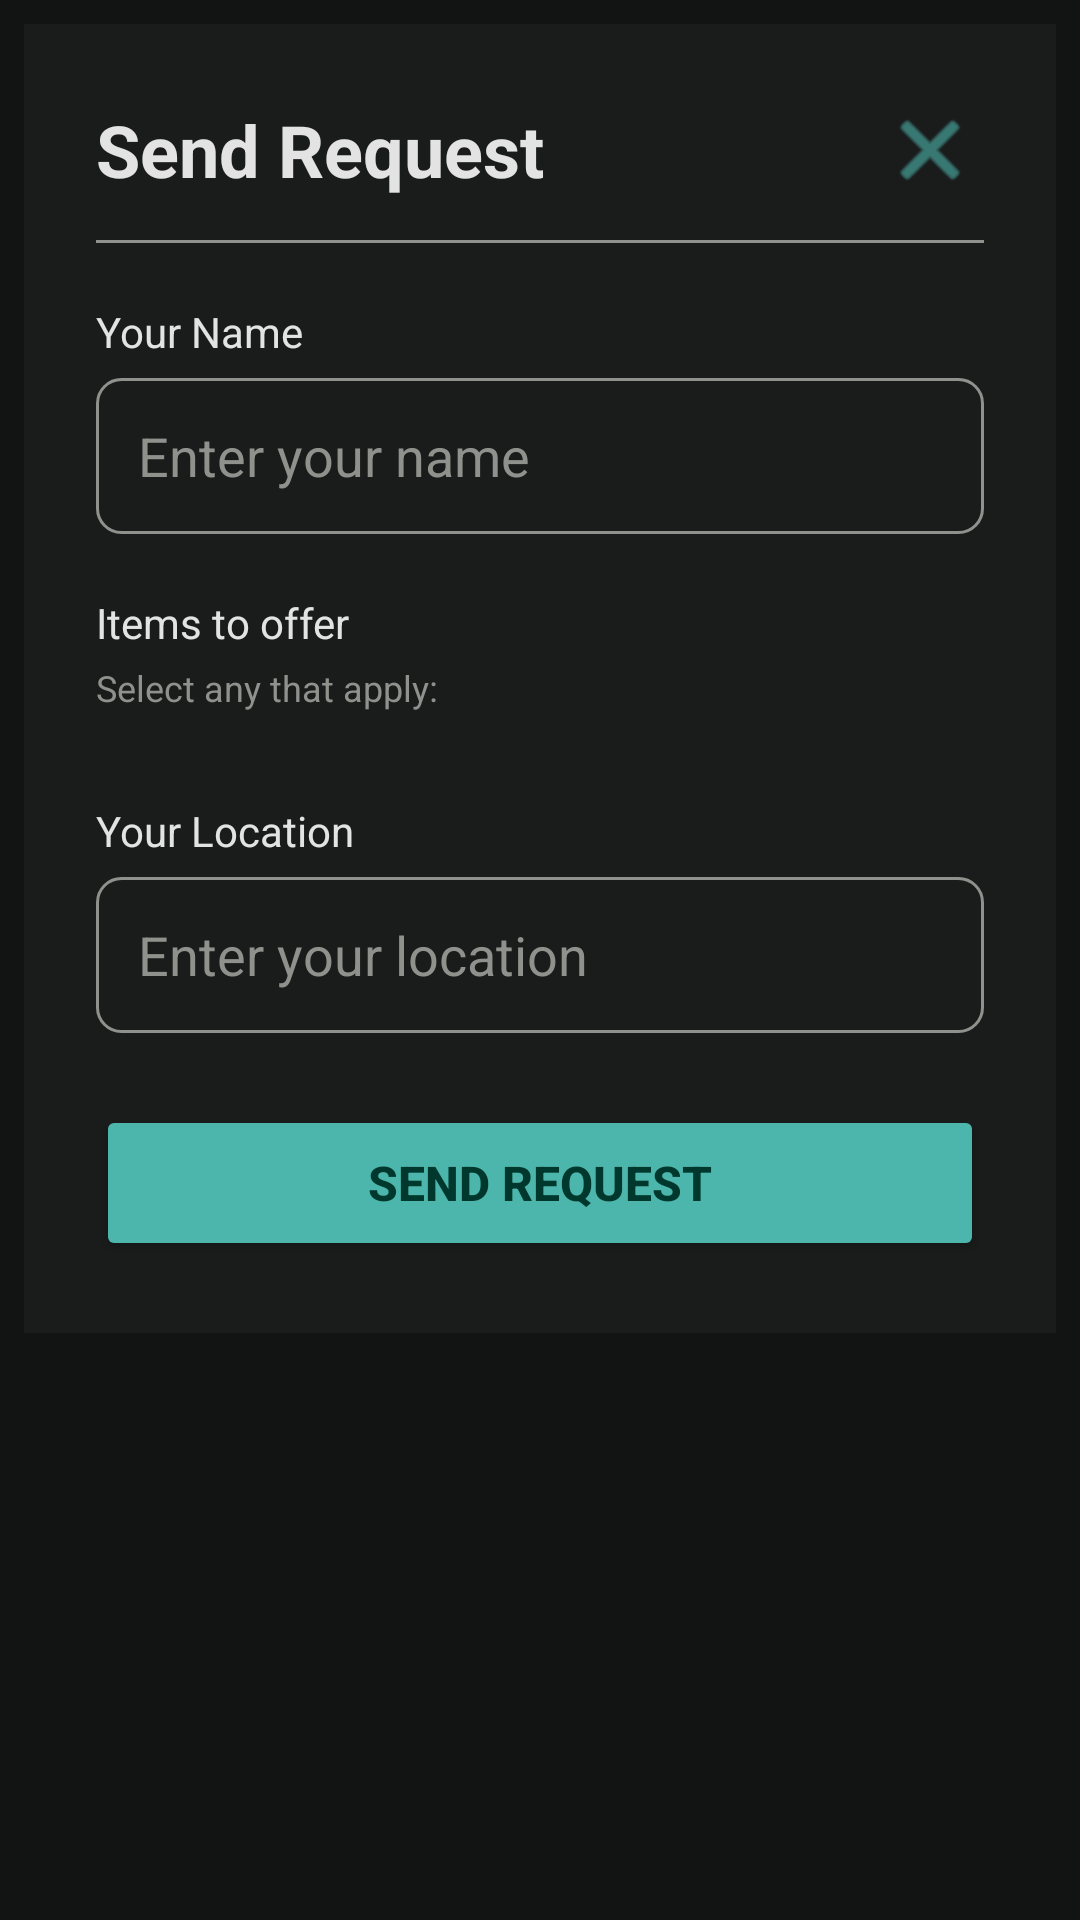

Screen size 1080px×1920px. Icon name, then its box in pixels as [x1, y1, x2, y2]:
Close: [900, 120, 960, 180]
